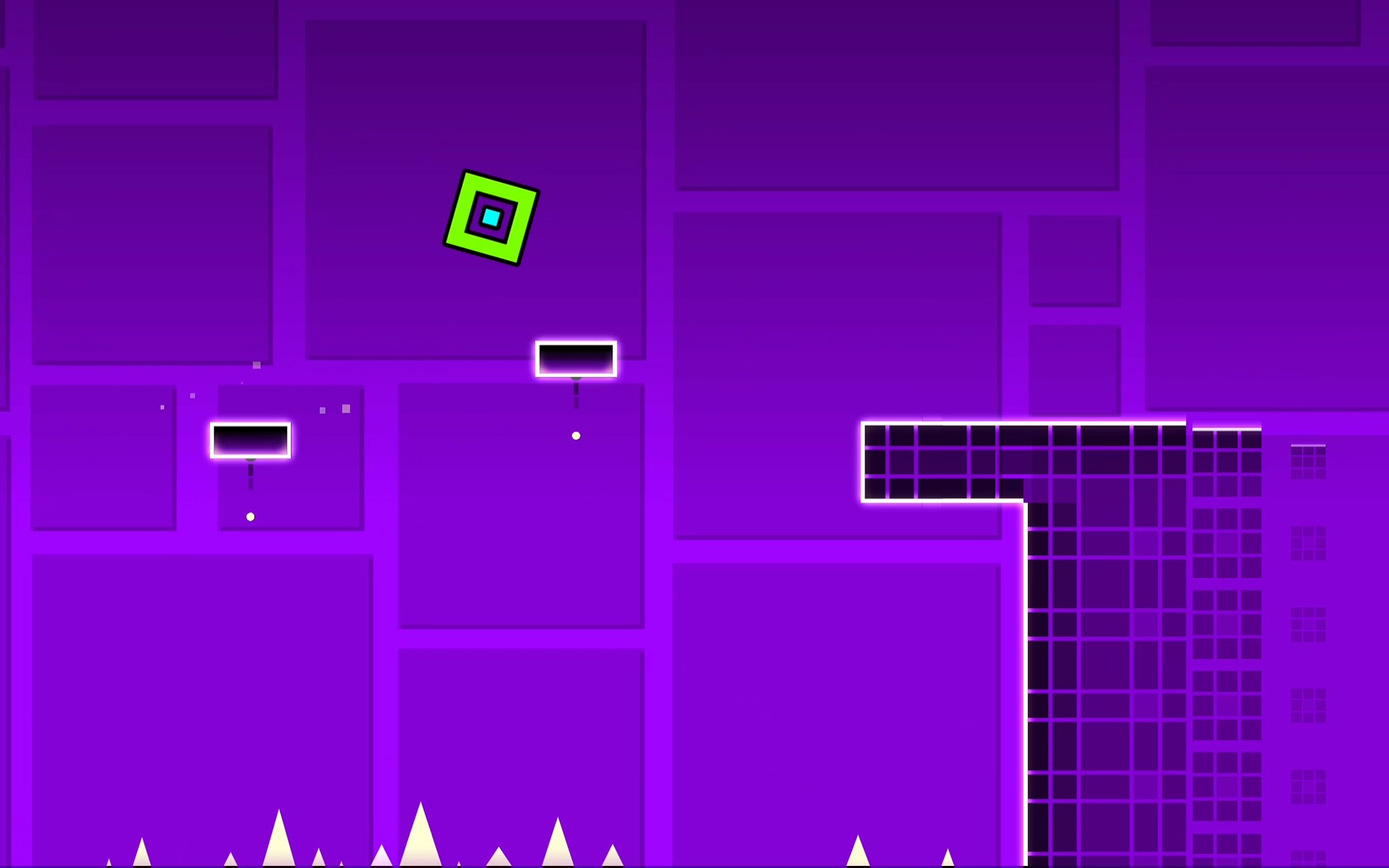Block2: (1027, 429, 1318, 868), (862, 421, 1026, 500)
Block3: (209, 421, 291, 459), (534, 340, 617, 377)
Player: (444, 171, 538, 262)
